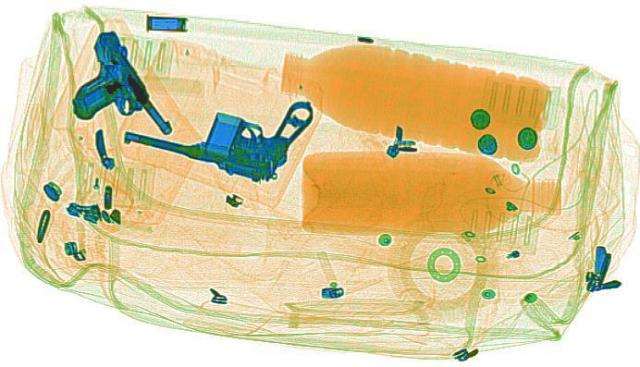Gun: (106, 64, 352, 187), (33, 27, 174, 142)
